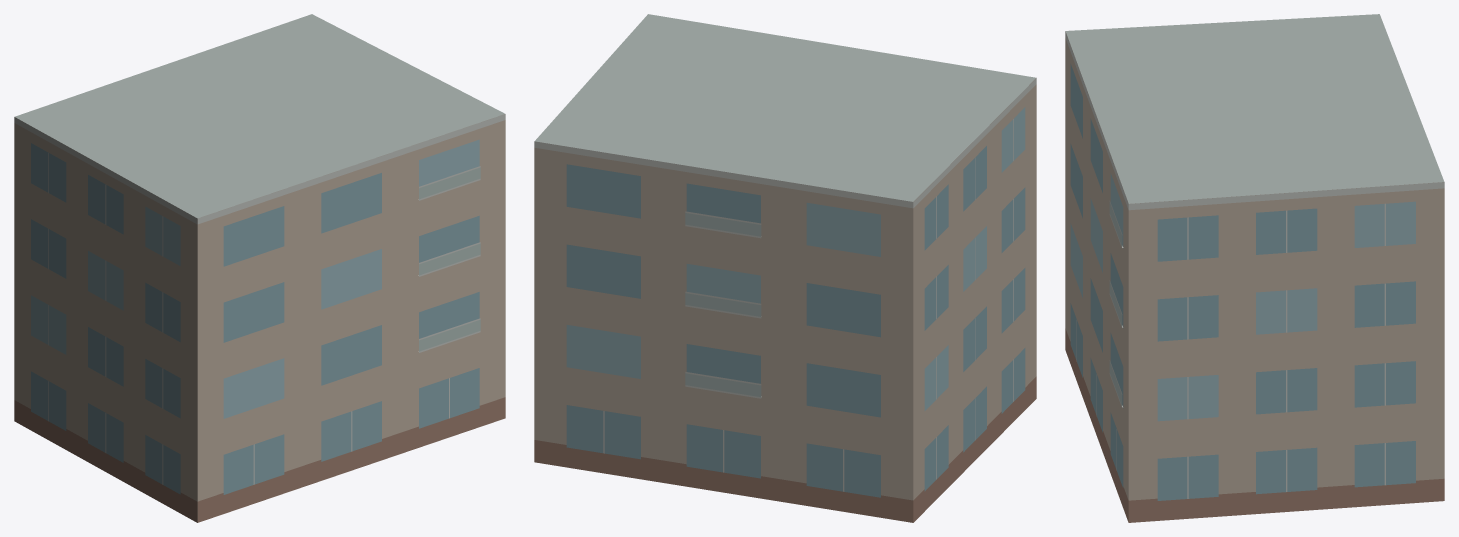
File: survey-upis-32526879.glb
3 renders of one model, left to right at view 1: azimuth 30°, elevation 25°; view 2: azimuth 150°, elevation 25°; view 3: azimuth 270°, elevation 25°, orthographic. The views are drawn at different scales.
Parts seen in each view (by area): view 1: survey-upis-32526879.tmp; view 2: survey-upis-32526879.tmp; view 3: survey-upis-32526879.tmp.
Boxes of the visible parts, x1,y1,x2,y2 form: survey-upis-32526879.tmp: [14, 14, 505, 522]; survey-upis-32526879.tmp: [534, 14, 1036, 522]; survey-upis-32526879.tmp: [1065, 14, 1444, 522].
Bounding box in the file's own units: 15.58 × 12.2 × 13.15.
